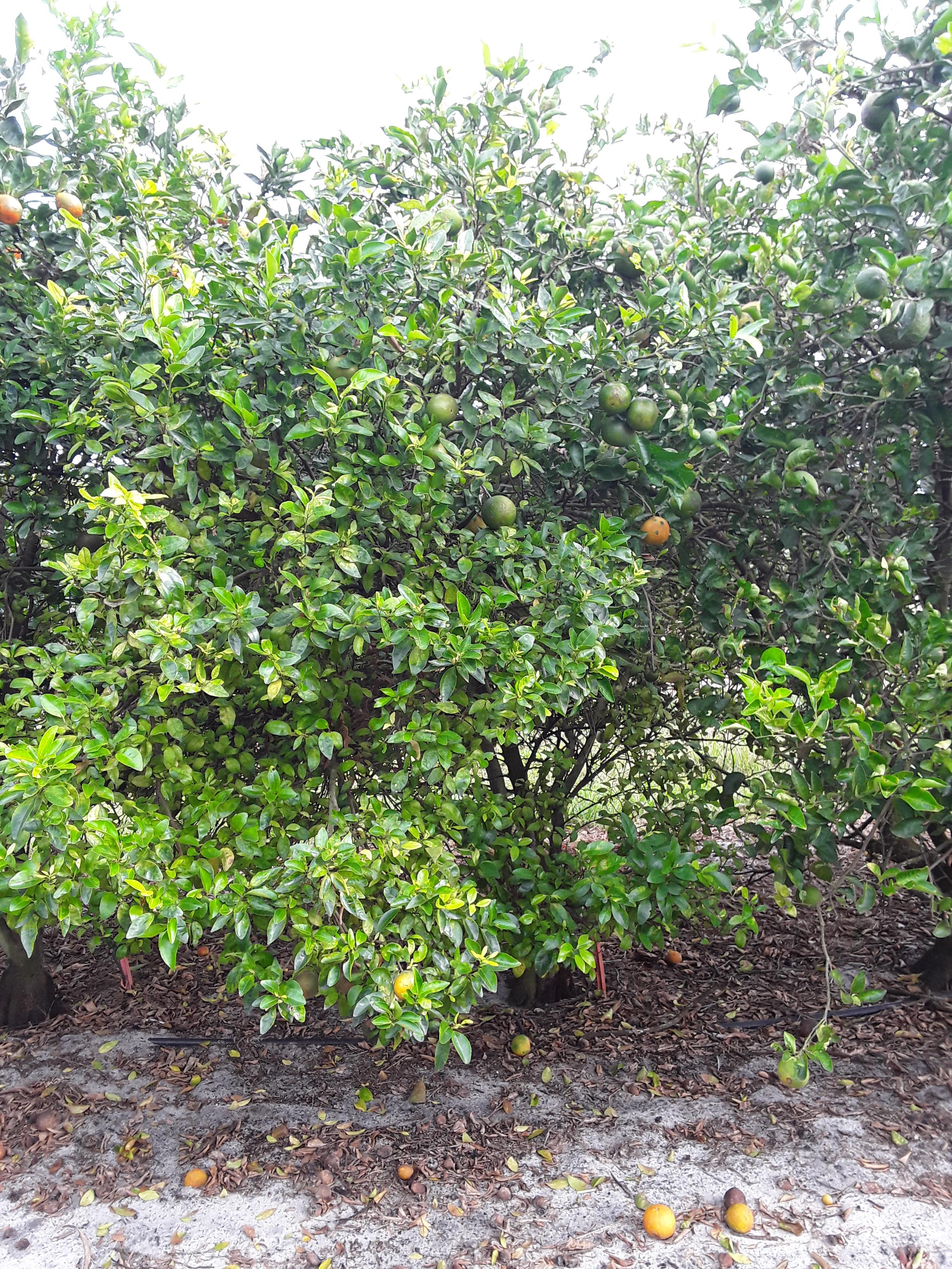fruit_on_ground: (856, 87, 908, 133), (768, 1044, 814, 1094), (480, 489, 520, 542), (662, 483, 706, 525), (614, 235, 651, 281), (635, 510, 676, 549), (597, 417, 643, 451), (329, 958, 368, 997), (388, 971, 427, 1006), (856, 263, 890, 303), (596, 381, 634, 416), (432, 203, 469, 238), (793, 879, 829, 914), (425, 390, 462, 424), (826, 668, 858, 703), (0, 191, 29, 229), (324, 353, 358, 384), (625, 397, 658, 428), (50, 192, 86, 219), (293, 967, 322, 1000), (697, 421, 721, 452), (750, 161, 778, 186), (75, 536, 113, 552), (646, 663, 667, 685), (214, 207, 232, 230)
fruit_on_tree: (720, 1199, 764, 1236), (644, 1199, 681, 1243), (32, 1108, 67, 1131), (182, 1166, 210, 1193), (719, 1185, 748, 1210), (508, 1031, 534, 1058), (492, 1183, 518, 1204), (311, 1182, 336, 1203), (666, 947, 686, 970), (395, 1162, 417, 1182), (402, 1185, 430, 1197), (39, 1198, 61, 1213), (374, 1144, 395, 1159), (196, 945, 215, 961), (12, 1236, 30, 1252), (820, 1192, 837, 1208), (94, 1183, 112, 1198), (489, 1215, 508, 1229), (317, 1171, 335, 1185), (499, 1247, 514, 1262)
